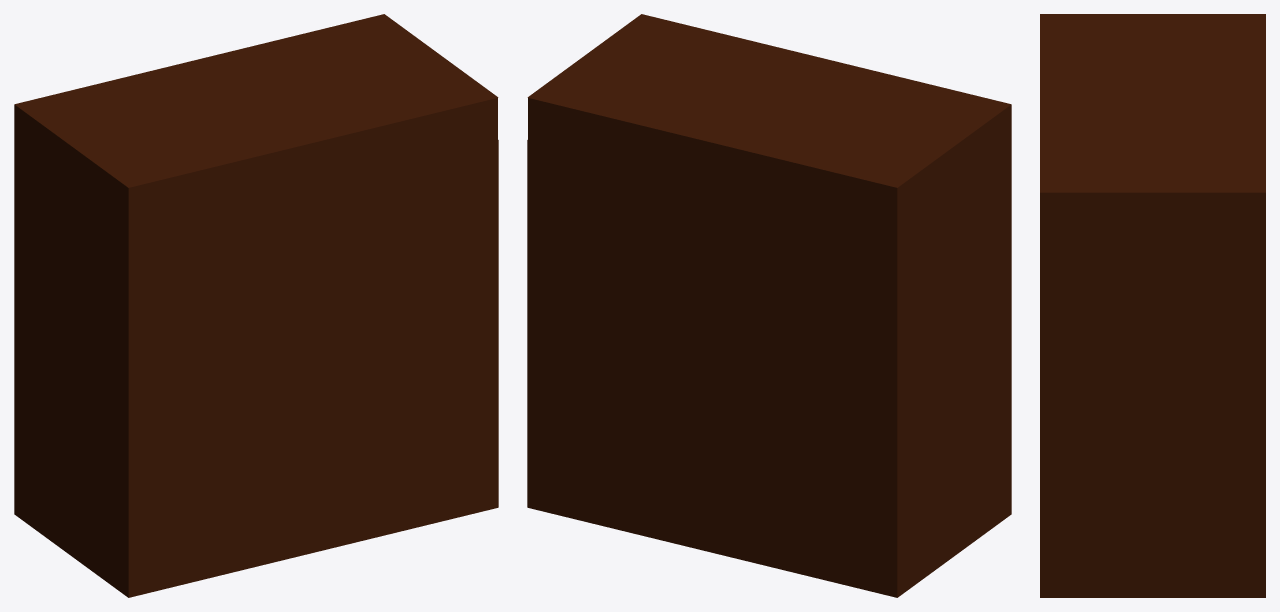
The model's file is escaproutDugremerde.fbx.
3 renders of one model, left to right at view 1: azimuth 30°, elevation 25°; view 2: azimuth 150°, elevation 25°; view 3: azimuth 270°, elevation 25°, orthographic.
Parts seen in each view (by area): view 1: BoxBrush5; view 2: BoxBrush5; view 3: BoxBrush5.
Boxes of the visible parts, x1=… form: BoxBrush5: x1=14, y1=14, x2=498, y2=597; BoxBrush5: x1=527, y1=14, x2=1011, y2=597; BoxBrush5: x1=1040, y1=14, x2=1265, y2=597.
Bounding box in the file's own units: 318 × 170 × 337.
